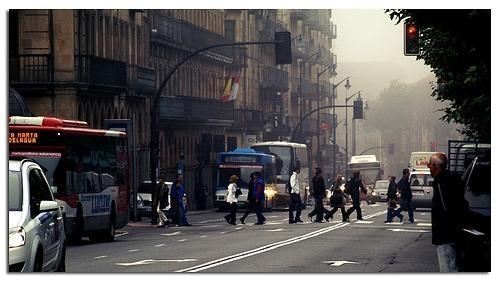bus: (10, 116, 130, 242), (249, 140, 311, 206), (216, 148, 278, 210), (346, 161, 384, 195)
car: (8, 160, 68, 275), (461, 154, 492, 272), (129, 180, 188, 222), (410, 170, 434, 210), (371, 180, 390, 203)
truck: (447, 140, 491, 179), (408, 150, 446, 174)
